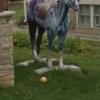Statue: (20, 2, 84, 69)
